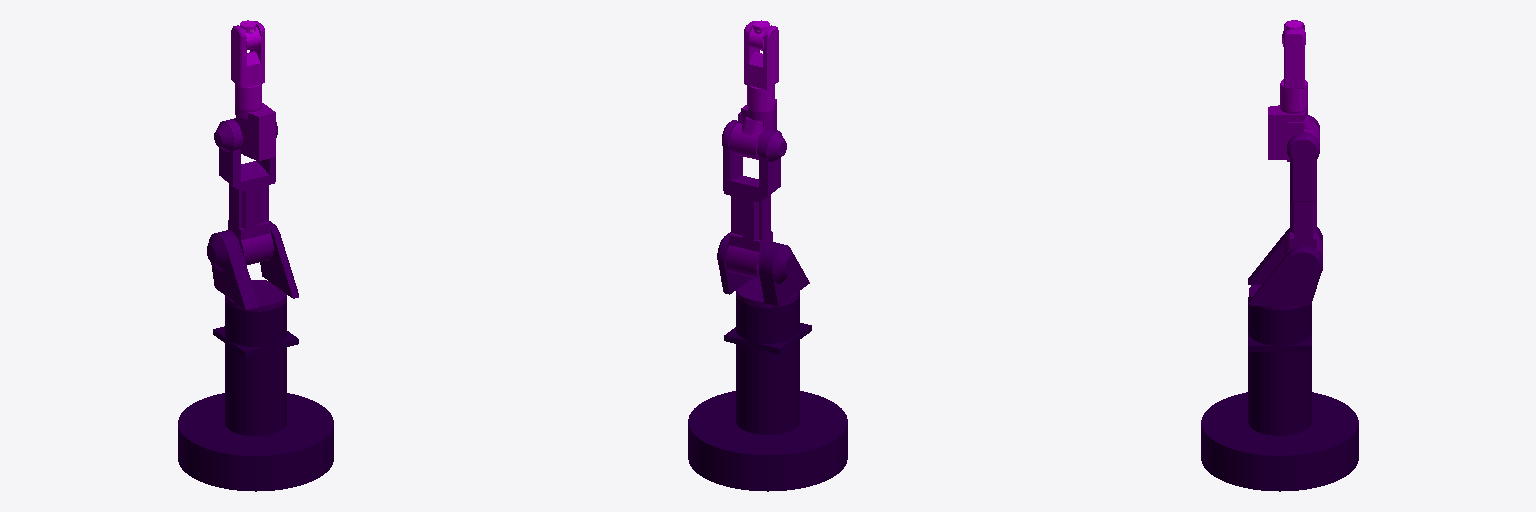
robot.urdf — kawasaki_fs20n:
<?xml version="1.0" ?>
<robot xmlns:xacro="http://ros.org/wiki/xacro" name="kawasaki_fs20n">

    <material name="Purple1">
        <color rgba="0.2 0.0 0.3 1.0"/>
    </material>
    <material name="Purple2">
        <color rgba="0.3 0.0 0.4 1.0"/>
    </material>
    <material name="Purple3">
        <color rgba="0.4 0.0 0.5 1.0"/>
    </material>
    <material name="Purple4">
        <color rgba="0.5 0.0 0.6 1.0"/>
    </material>
    <material name="Purple5">
        <color rgba="0.6 0.0 0.7 1.0"/>
    </material>
    <material name="Purple6">
        <color rgba="0.7 0.0 0.8 1.0"/>
    </material>
    <material name="Purple7">
        <color rgba="0.8 0.2 0.9 1.0"/>
    </material>
    <material name="Purple8">
        <color rgba="0.8 0.5 0.9 1.0"/>
    </material>

    <link name="base_link">
        <visual>
            <origin rpy="0 0 0" xyz="0 0 0"/>
            <geometry>
                <mesh filename="package://kawasaki_fs20n_description/meshes/base_link.stl"/>
            </geometry>
            <material name="Purple1" />
        </visual>
        <collision>
            <geometry>
                <mesh filename="package://kawasaki_fs20n_description/meshes/base_link.stl"/>
            </geometry>
        </collision>
    </link>

    <link name="link1">
        <visual>
            <origin rpy="0 0 0" xyz="0 0 0"/>
            <geometry>
                <mesh filename="package://kawasaki_fs20n_description/meshes/link_1.stl"/>
            </geometry>
            <material name="Purple2" />
        </visual>
        <collision>
            <geometry>
                <mesh filename="package://kawasaki_fs20n_description/meshes/link_1.stl"/>
            </geometry>
        </collision>
    </link>

    <link name="link2">
        <visual>
            <origin rpy="0 0 0" xyz="0 0 0"/>
            <geometry>
                <mesh filename="package://kawasaki_fs20n_description/meshes/link_2.stl"/>
            </geometry>
            <material name="Purple3" />
        </visual>
        <collision>
            <geometry>
                <mesh filename="package://kawasaki_fs20n_description/meshes/link_2.stl"/>
            </geometry>
        </collision>
    </link>

    <link name="link3">
        <visual>
            <origin rpy="0 0 0" xyz="0 0 0"/>
            <geometry>
                <mesh filename="package://kawasaki_fs20n_description/meshes/link_3.stl"/>
            </geometry>
            <material name="Purple4"/>
        </visual>
        <collision>
            <geometry>
                <mesh filename="package://kawasaki_fs20n_description/meshes/link_3.stl"/>
            </geometry>
        </collision>
    </link>

    <link name="link4">
        <visual>
            <origin rpy="0 0 0" xyz="0 0 0"/>
            <geometry>
                <mesh filename="package://kawasaki_fs20n_description/meshes/link_4.stl"/>
            </geometry>
            <material name="Purple5" />
        </visual>
        <collision>
            <geometry>
                <mesh filename="package://kawasaki_fs20n_description/meshes/link_4.stl"/>
            </geometry>
        </collision>
    </link>

    <link name="link5">
        <visual>
            <origin rpy="0 0 0" xyz="0 0 0"/>
            <geometry>
                <mesh filename="package://kawasaki_fs20n_description/meshes/link_5.stl"/>
            </geometry>
            <material name="Purple6" />
        </visual>
        <collision>
            <geometry>
                <mesh filename="package://kawasaki_fs20n_description/meshes/link_5.stl"/>
            </geometry>
        </collision>
    </link>

    <link name="link6">
        <visual>
            <origin rpy="0 0 0" xyz="0 0 0"/>
            <geometry>
                <mesh filename="package://kawasaki_fs20n_description/meshes/link_6.stl"/>
            </geometry>
            <material name="Purple7" />
        </visual>
        <collision>
            <geometry>
                <mesh filename="package://kawasaki_fs20n_description/meshes/link_6.stl"/>
            </geometry>
        </collision>
    </link>

    <joint name="joint0" type="revolute">
        <limit effort="1000.0" lower="-2.7925" upper="2.7925" velocity="0.5"/>
        <parent link="base_link"/>
        <child link="link1"/>
        <origin xyz="0 0 1.13" rpy="3.1415926 0 0" />
        <axis xyz="0 0 1" />
    </joint>

    <joint name="joint1" type="revolute">
        <limit effort="1000.0" lower="-1.8326" upper="2.4435" velocity="0.5"/>
        <parent link="link1"/>
        <child link="link2"/>
        <origin xyz="0.035 -0.150 -0.310" rpy="3.1415926 1.570796 0" />
        <axis xyz="0 0 1" />
    </joint>

    <joint name="joint2" type="revolute">
        <limit effort="1000.0" lower="-2.7053" upper="2.0944" velocity="0.5"/>
        <parent link="link2"/>
        <child link="link3"/>
        <origin xyz="0.8 0 0" rpy="3.1415926 0 0" />
        <axis xyz="0 0 1" />
    </joint>

    <joint name="joint3" type="revolute">
        <limit effort="1000.0" lower="-4.7124" upper="4.7124" velocity="0.5"/>
        <parent link="link3"/>
        <child link="link4"/>
        <origin xyz="0.225 0.06 -0.042" rpy="0 1.570796 0" />
        <axis xyz="0 0 1" />
    </joint>

    <joint name="joint4" type="revolute">
        <limit effort="1000.0" lower="-2.5307" upper="2.5307" velocity="0.5"/>
        <parent link="link4"/>
        <child link="link5"/>
        <origin xyz="0 0 0.475" rpy="0 -1.570796 0" />
        <axis xyz="0 0 1" />
    </joint>

    <joint name="joint5" type="revolute">
        <limit effort="1000.0" lower="-6.2832" upper="6.2832" velocity="0.5"/>
        <parent link="link5"/>
        <child link="link6"/>
        <origin xyz="0.0525 0 0" rpy="3.1415926 -1.570796 0" />
        <axis xyz="0 0 1" />
    </joint>
</robot>

--- What the picture shows (computed from the rendered views, not written in the file) ---
Views: 3 orthographic renders of the robot side by side, from view 1: azimuth 30°, elevation 25°; view 2: azimuth 150°, elevation 25°; view 3: azimuth 270°, elevation 25°.
Model kawasaki_fs20n with 7 links and 6 joints (6 revolute), rooted at base_link, posed every joint at zero.
Links seen in each view (by area): view 1: base_link, link2, link1, link4, link3; view 2: base_link, link2, link1, link4, link3; view 3: base_link, link1, link2, link4, link3.
Boxes of the visible links, <box> form: base_link: <box>178,301,333,491</box>; link2: <box>214,119,277,264</box>; link1: <box>207,221,298,311</box>; link4: <box>231,21,264,109</box>; link3: <box>233,103,275,160</box>; base_link: <box>688,296,847,491</box>; link2: <box>722,120,786,279</box>; link1: <box>717,232,809,307</box>; link4: <box>744,21,778,111</box>; link3: <box>730,99,776,159</box>; base_link: <box>1201,297,1358,491</box>; link1: <box>1248,227,1322,309</box>; link2: <box>1284,115,1322,257</box>; link4: <box>1280,20,1307,111</box>; link3: <box>1268,105,1319,161</box>.
Size in the robot's own frame: 1 by 0.9983 by 3.04 metres.
Meshes: 7 distinct files referenced, 7 mesh visuals loaded (7 binary STL).
